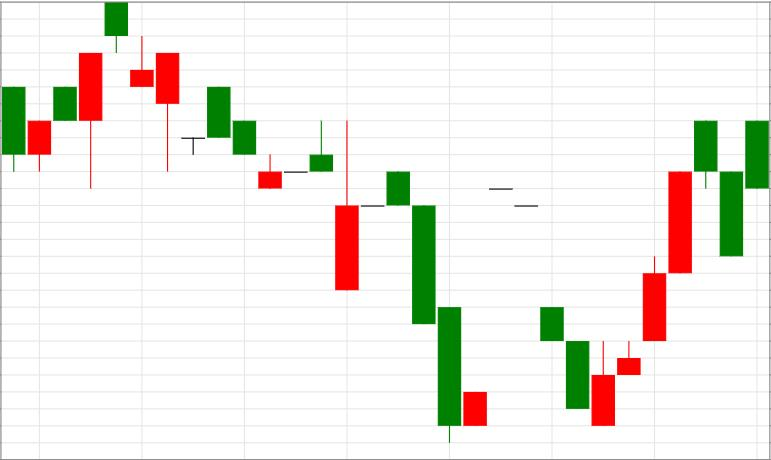three_white_soldiers_rise: (489, 171, 693, 426)
